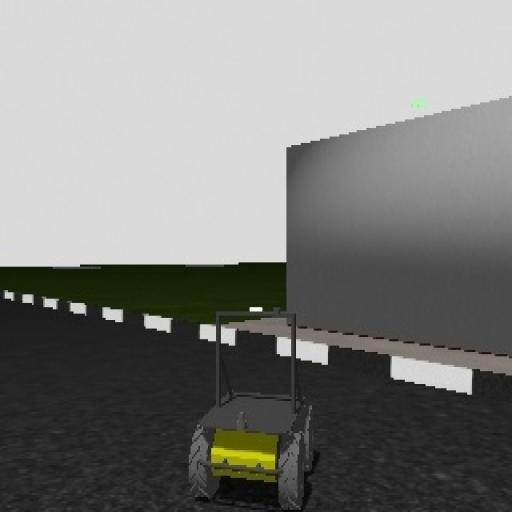huskya200: (183, 304, 323, 512)
